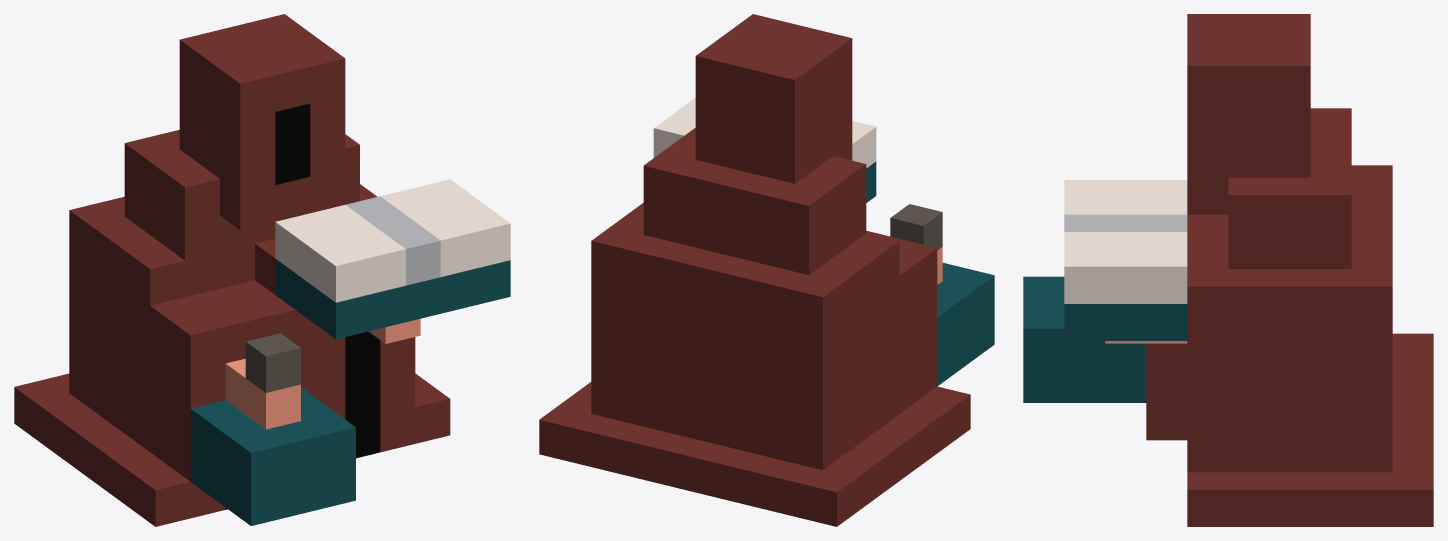
Rendered from alchemist_action_0.obj.
The picture shows the model from 3 angles, left to right: view 1: azimuth 30°, elevation 25°; view 2: azimuth 150°, elevation 25°; view 3: azimuth 270°, elevation 25°; orthographic projection. The views are drawn at different scales.
Size of the model in its own units: 0.9 by 1.1 by 1.
Materials: 1 (1 with a texture image).
